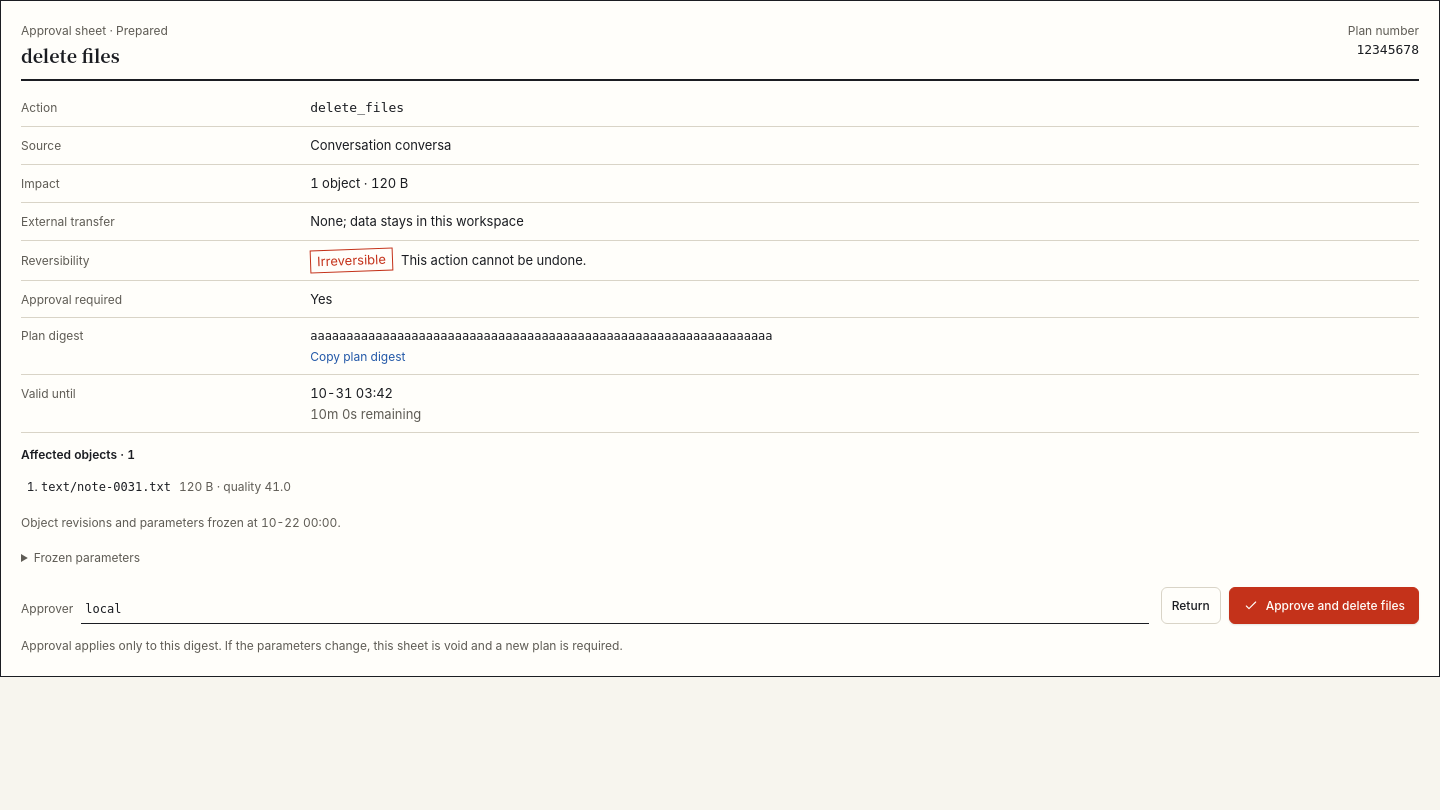
Test case: renders the frozen plan fields, source conversation, object context and irreversible stamp
The width and height of the screenshot is (1440, 810).
Check: the text "delete_files" is shown, box [310, 100, 404, 115]
Check: the text "None; data stays in this workspace" is shown, box [310, 213, 524, 229]
Click the heading "Frozen parameters". click: (87,558)
box: [34, 550, 140, 565]
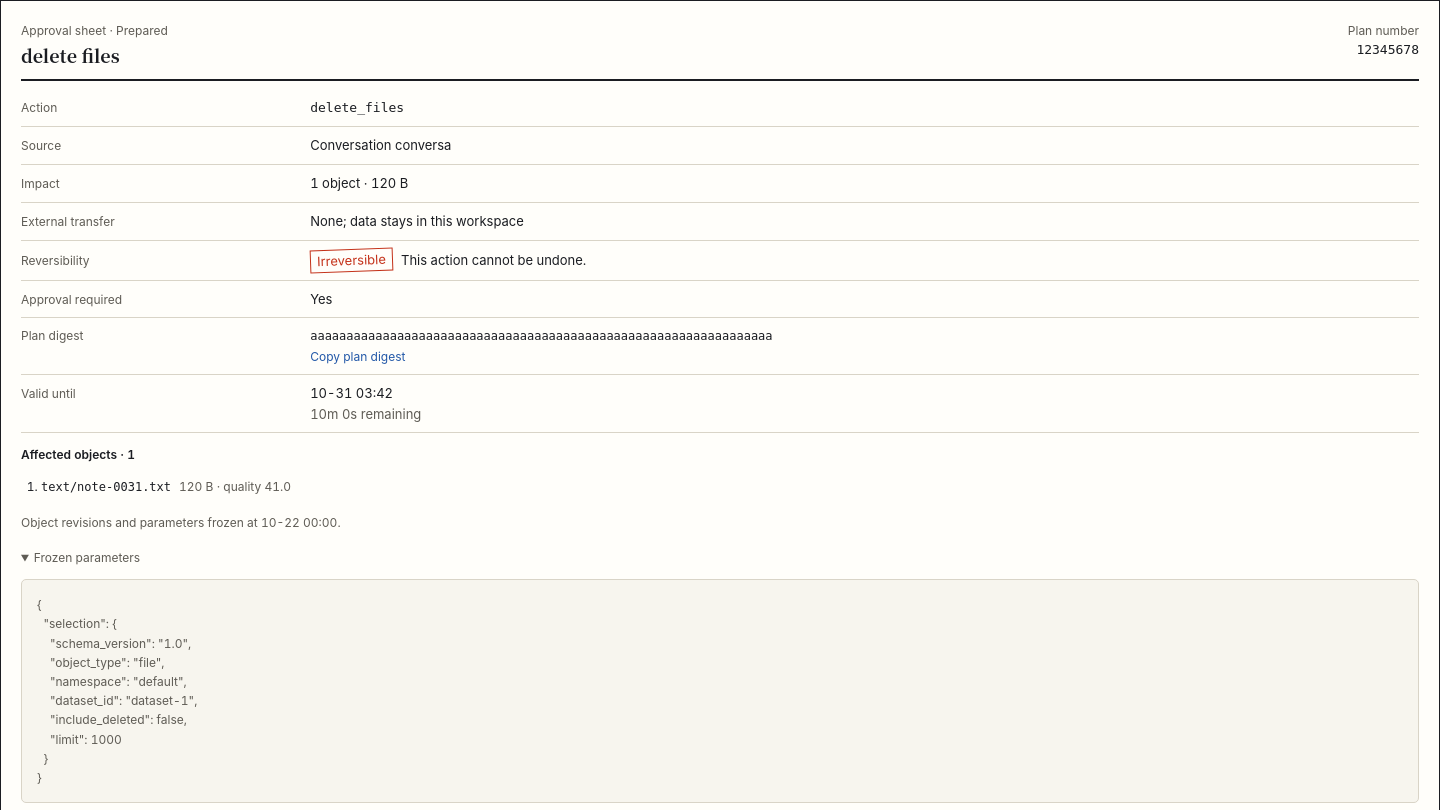
Check: the text "\"include_deleted\": false" is shown, box [37, 597, 197, 785]
